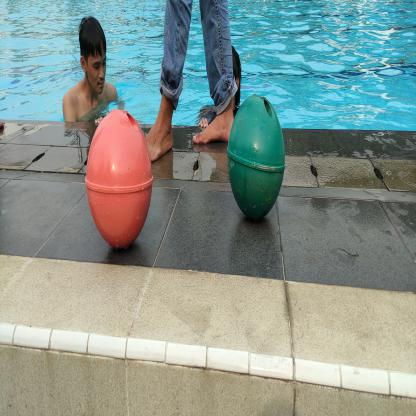green_buoy: (224, 92, 288, 224)
red_buoy: (84, 107, 155, 254)
